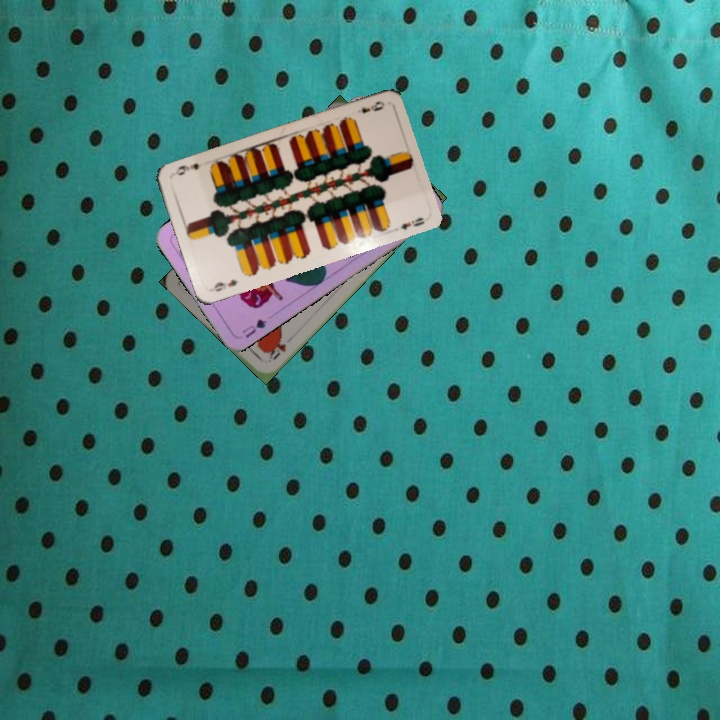E9: (354, 97, 387, 116), (208, 275, 240, 294)
GU: (238, 315, 270, 341)
HO: (264, 336, 289, 362)
